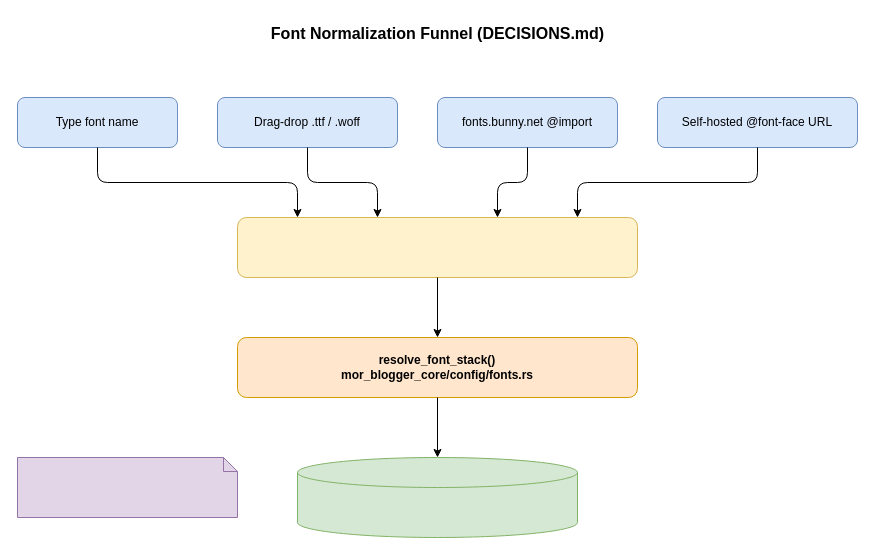
Some shapes in this 875 by 555 pixel diagram are drawn without their labels. The centre of each missing label's shape, as x and y in pixels:
Single parser — DRY, one place to maintain: (x=127, y=487)
Standard CSS font stack in exported b:skin: (x=437, y=497)
UI coerces to font name string (no binary stored in ThemeState): (x=437, y=247)
